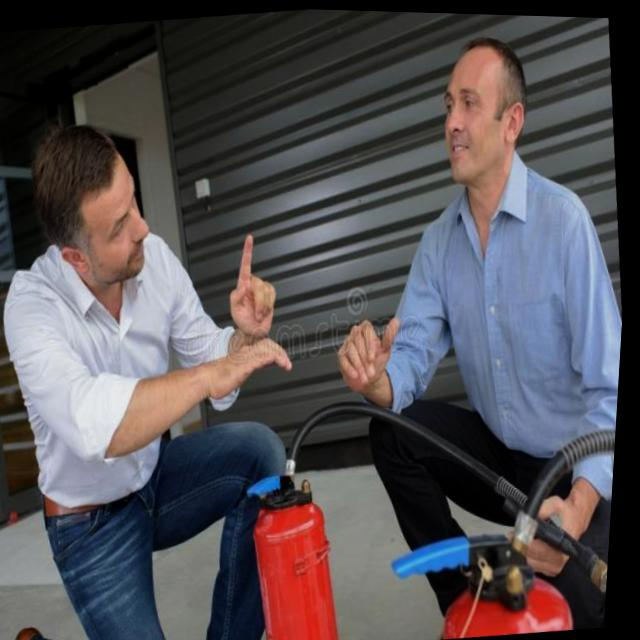FireExtinguisher: (234, 362, 623, 640), (376, 412, 621, 640)
